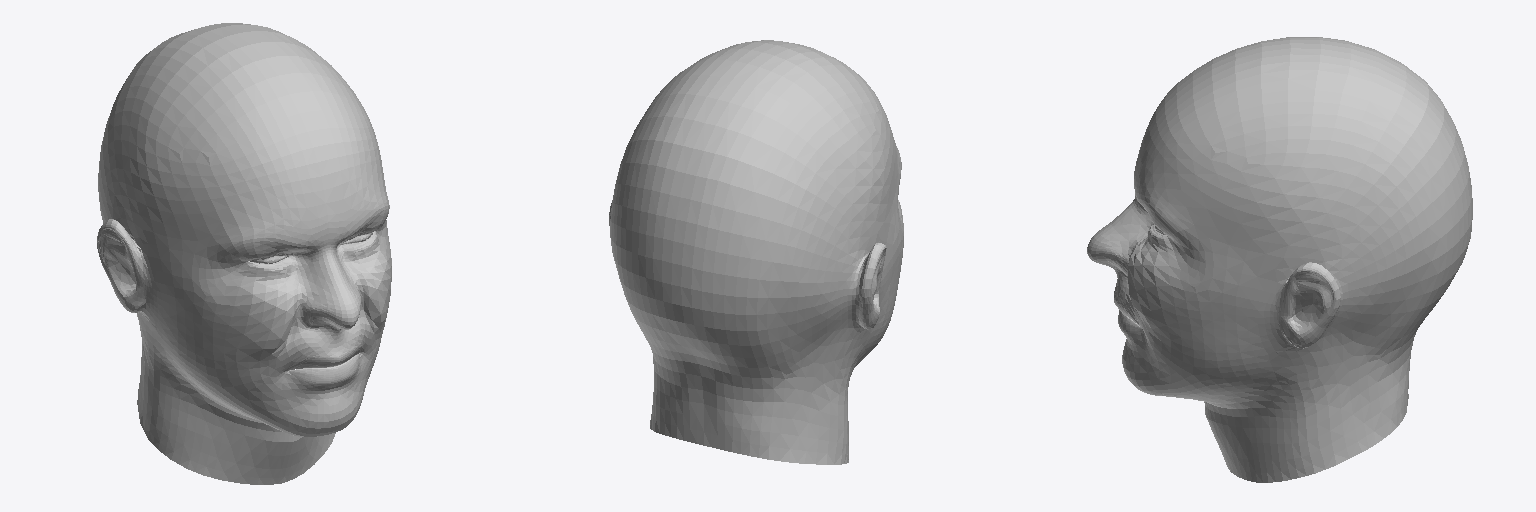
File: MaleFace_ExpressionDisgust.obj
The picture shows the model from 3 angles: view 1: azimuth 30°, elevation 25°; view 2: azimuth 150°, elevation 25°; view 3: azimuth 270°, elevation 25°; orthographic projection.
Bounding box in the file's own units: 189 × 284 × 239.